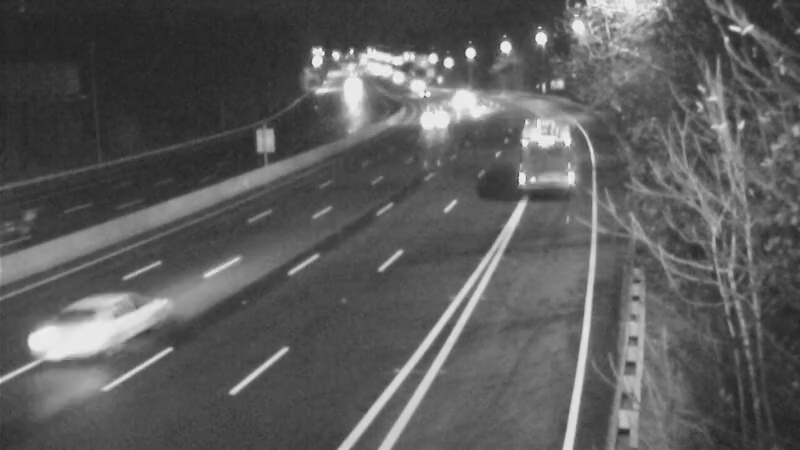vehicle: (19, 277, 129, 387), (372, 53, 422, 103), (392, 61, 442, 111), (405, 72, 455, 122), (434, 73, 484, 123), (455, 84, 505, 134), (416, 93, 466, 143), (523, 123, 573, 173), (329, 70, 379, 120)
